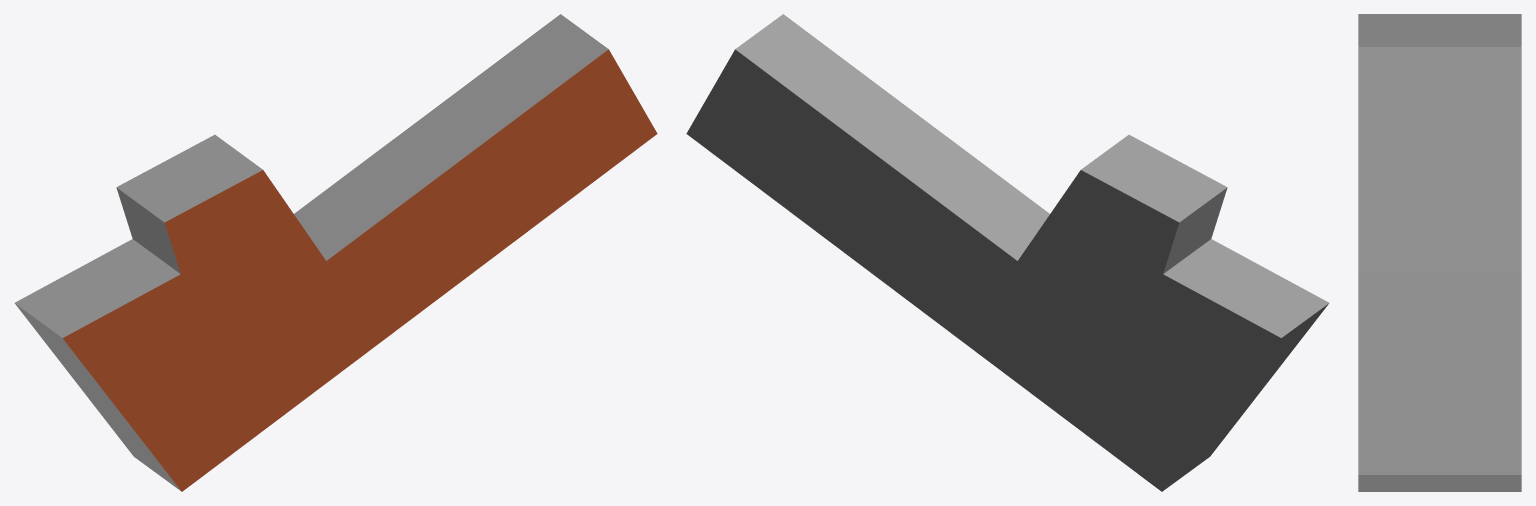
The model's file is construction_2097_assumed_A_Casa_h6m.obj.
3 renders of one model, left to right at view 1: azimuth 30°, elevation 25°; view 2: azimuth 150°, elevation 25°; view 3: azimuth 270°, elevation 25°, orthographic. The views are drawn at different scales.
Visible parts, largest first — view 1: construction_2097_assumed_A_Casa; view 2: construction_2097_assumed_A_Casa; view 3: construction_2097_assumed_A_Casa.
Part boxes in pixels (x1,y1,x2,y2): construction_2097_assumed_A_Casa: (14, 14, 657, 491); construction_2097_assumed_A_Casa: (686, 14, 1329, 491); construction_2097_assumed_A_Casa: (1358, 14, 1521, 491).
Bounding box in the file's own units: 42.74 × 23.24 × 6.
